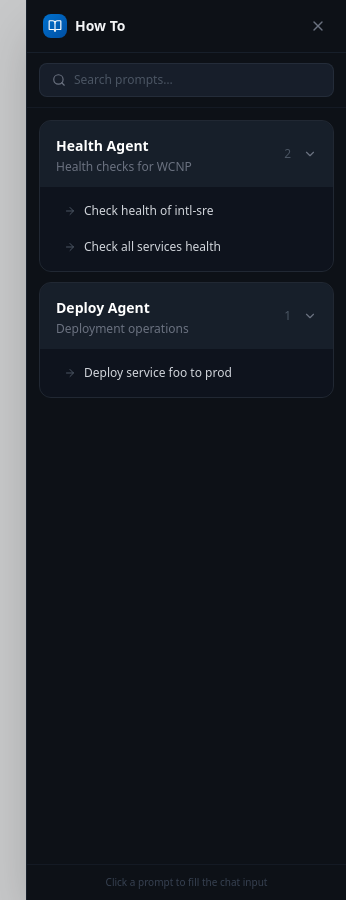
HowToPanel › collapses a group when its header is clicked
Expected: the text "Check health of intl-sre" is shown, [84, 202, 214, 219]
Click the text "Health Agent": {"x": 102, "y": 146} [56, 136, 149, 155]
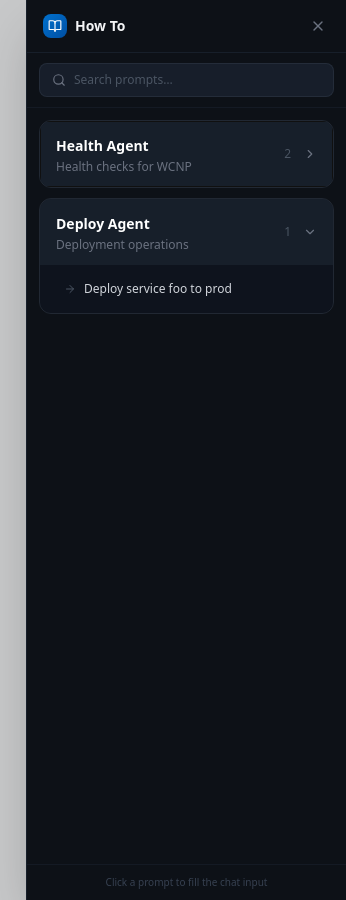
Expected: the button "Check health of intl-sre" is gone
